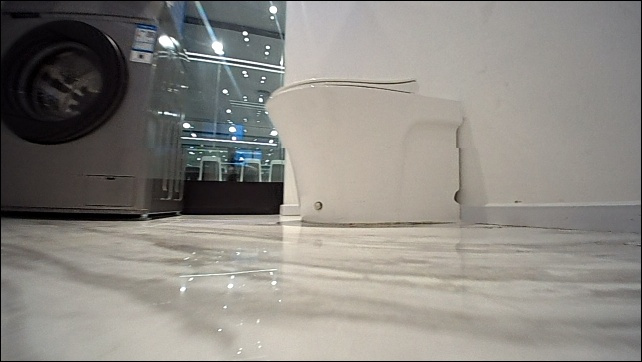toilet: (263, 75, 467, 225)
washing_machine: (0, 12, 195, 217)
